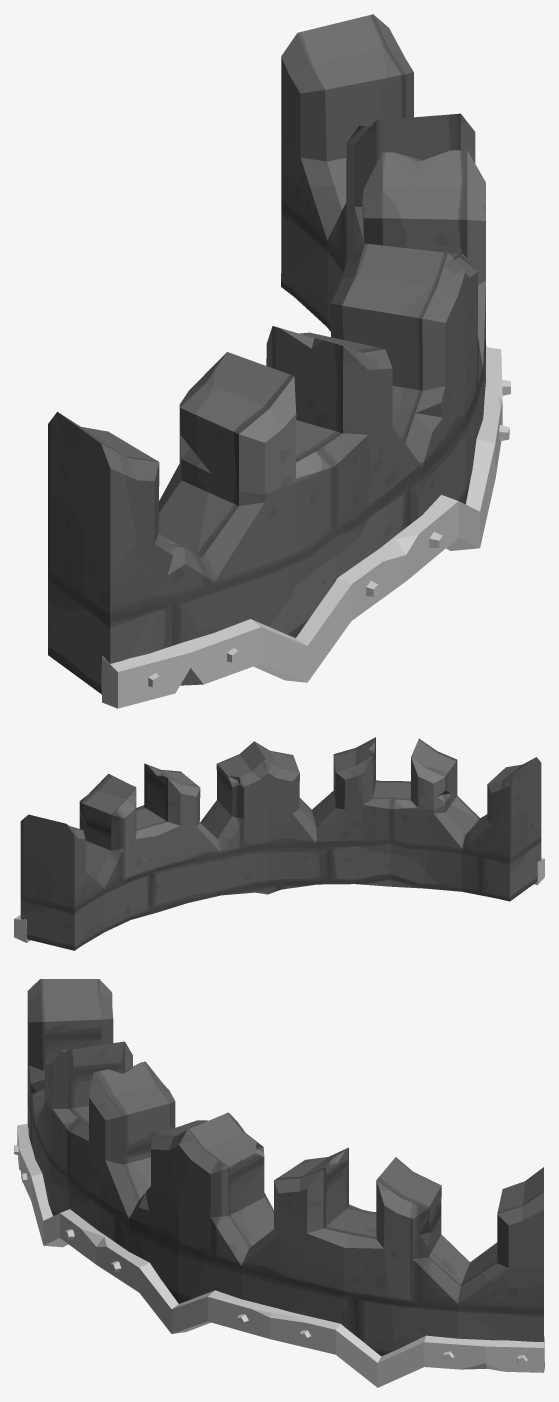
Rendered from SM_Bld_Battlements_L_Curve_02.fbx.
3 views of the same model, one above another, from view 1: azimuth 30°, elevation 25°; view 2: azimuth 150°, elevation 25°; view 3: azimuth 270°, elevation 25° (orthographic). The views are drawn at different scales.
Visible parts, largest first — view 1: SM_Bld_Battlements_L_Curve_02; view 2: SM_Bld_Battlements_L_Curve_02; view 3: SM_Bld_Battlements_L_Curve_02.
Boxes of the visible parts, x1,y1,x2,y2 form: SM_Bld_Battlements_L_Curve_02: (48, 14, 510, 708); SM_Bld_Battlements_L_Curve_02: (14, 737, 544, 950); SM_Bld_Battlements_L_Curve_02: (14, 979, 544, 1387).
Bounding box in the file's own units: 434 × 182 × 433.
